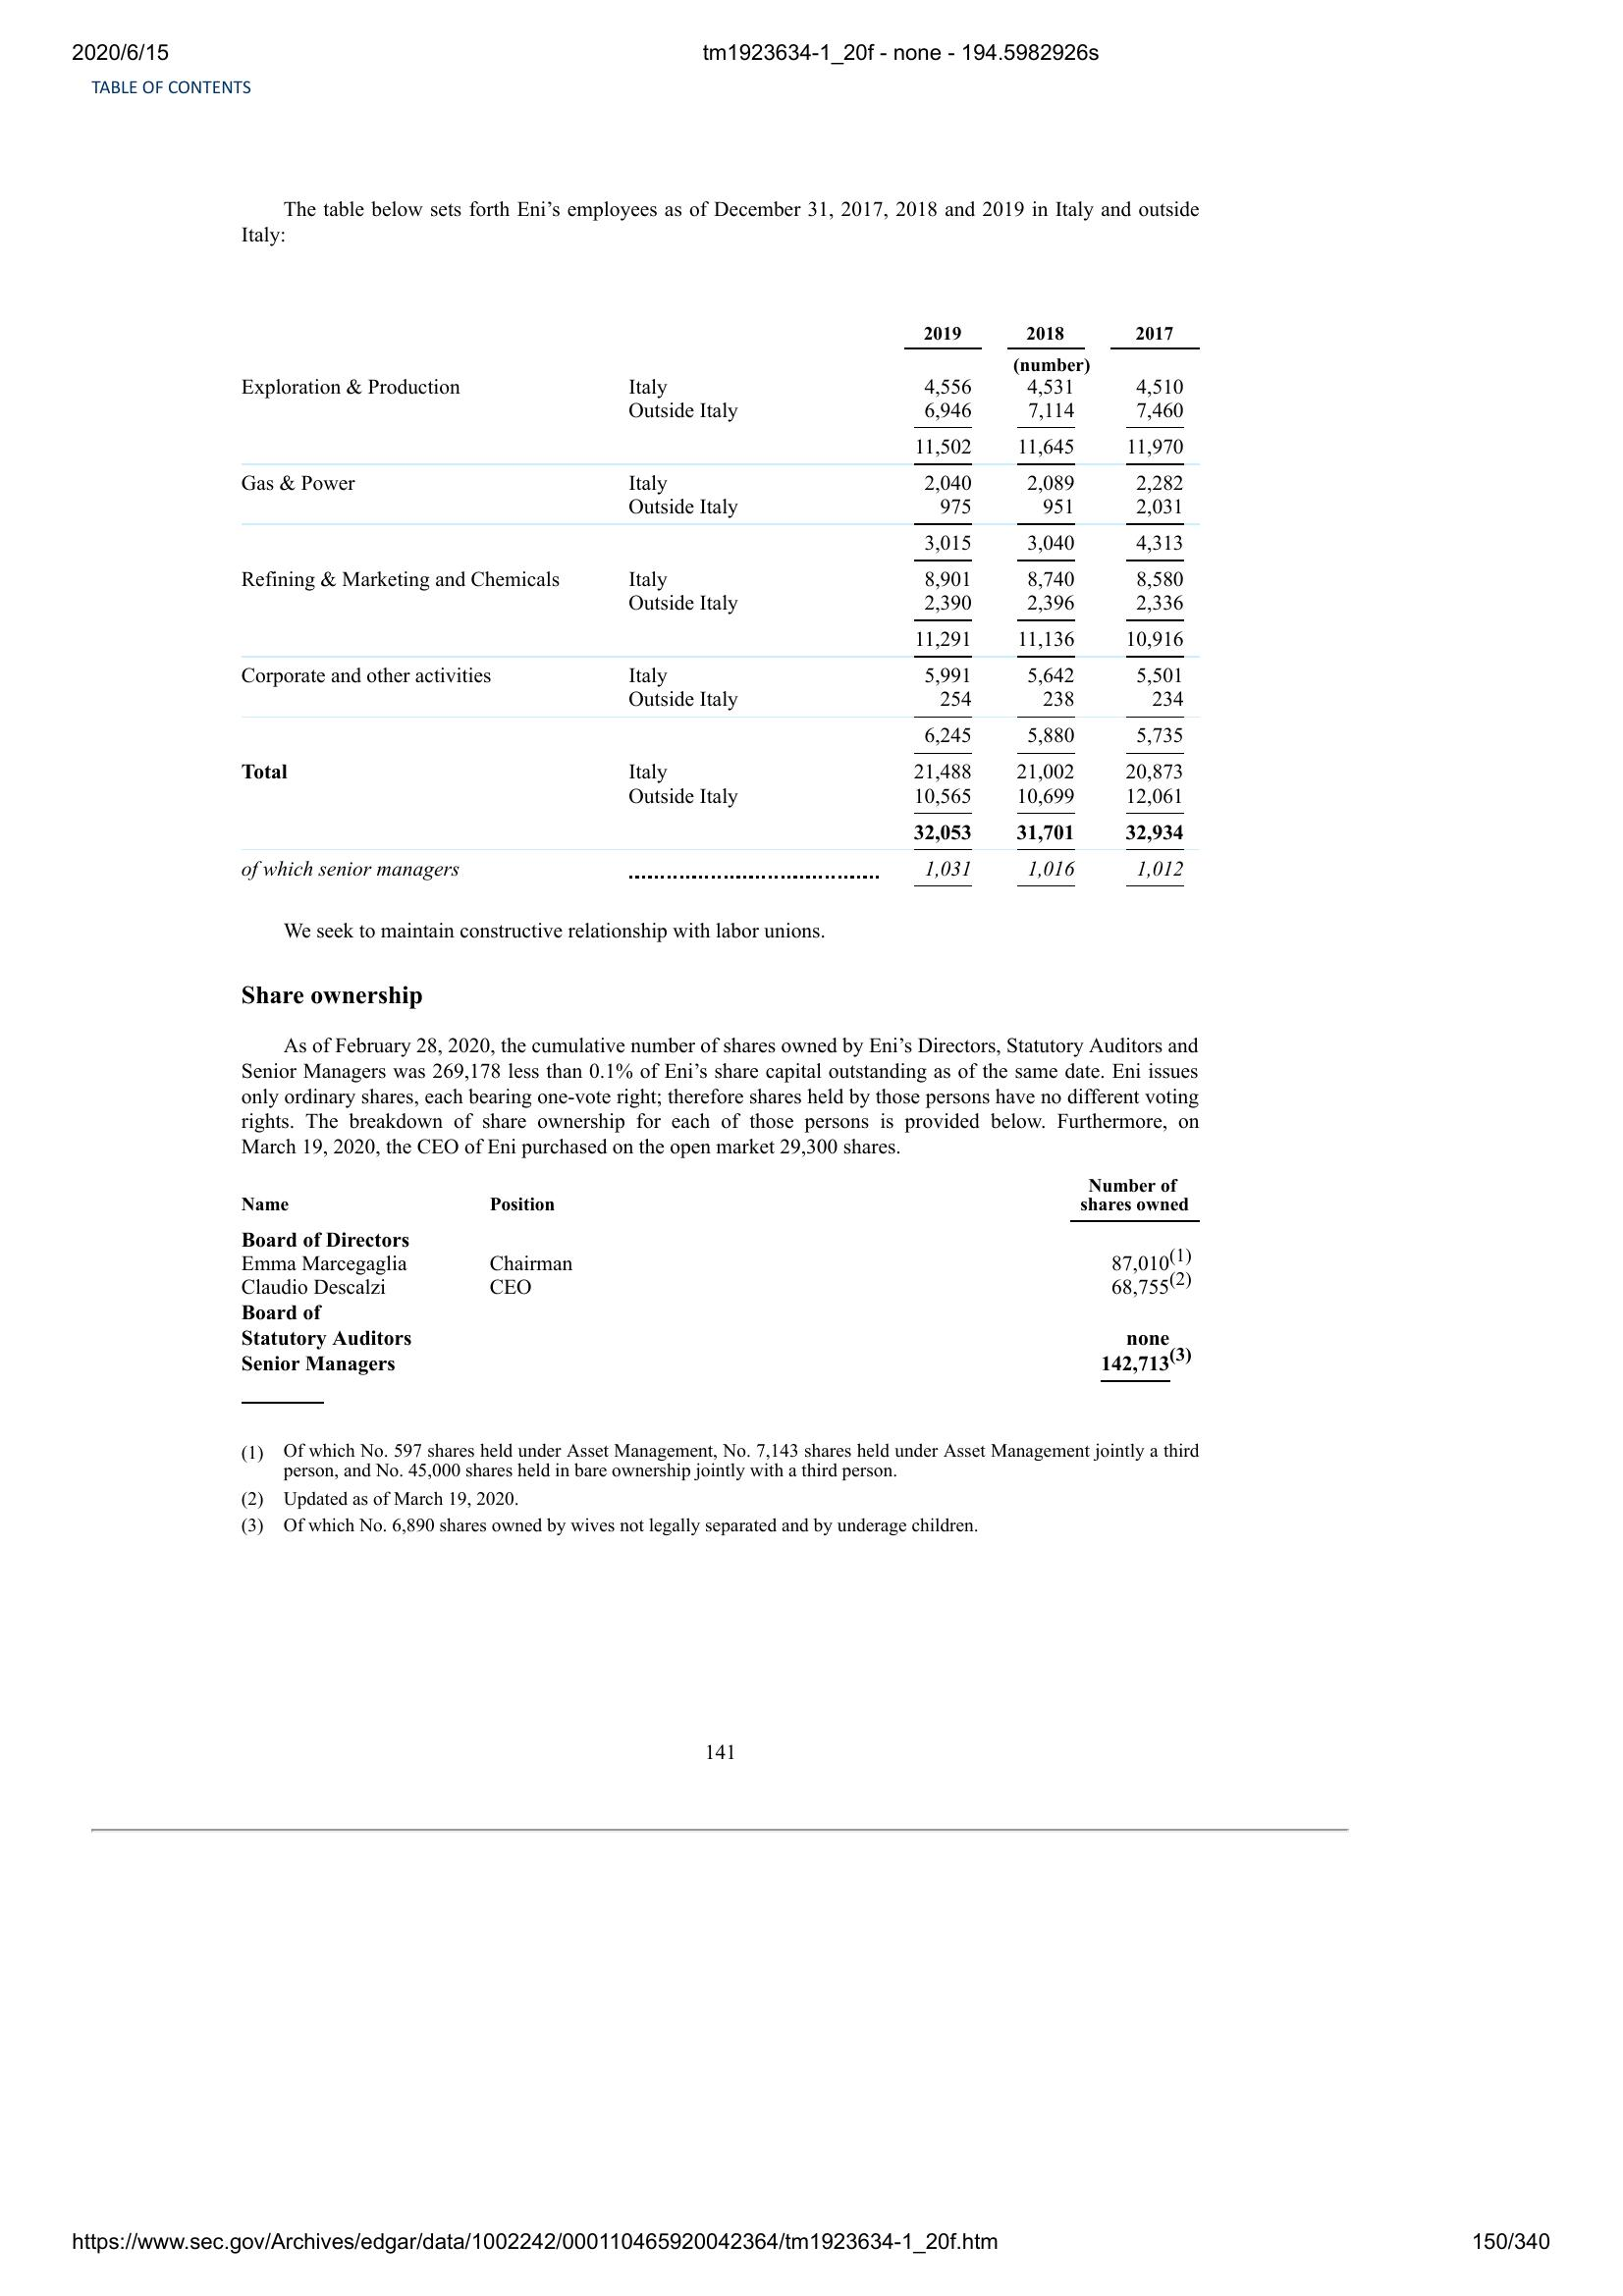table: (234, 318, 1200, 893), (239, 1176, 1201, 1394)
